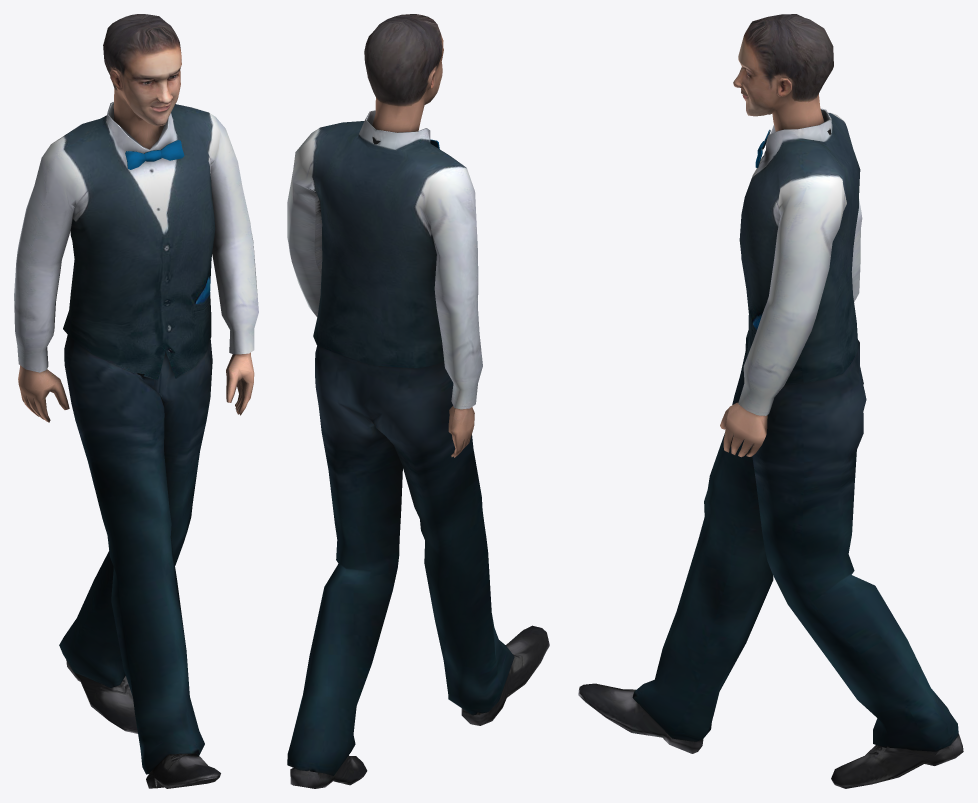
The model's file is SWT01_02_03.fbx.
3 renders of one model, left to right at view 1: azimuth 30°, elevation 25°; view 2: azimuth 150°, elevation 25°; view 3: azimuth 270°, elevation 25°, orthographic.
Parts seen in each view (by area): view 1: WAIT01_02_03; view 2: WAIT01_02_03; view 3: WAIT01_02_03.
Part boxes in pixels (x1=…): WAIT01_02_03: x1=14, y1=14, x2=258, y2=788; WAIT01_02_03: x1=287, y1=14, x2=549, y2=788; WAIT01_02_03: x1=578, y1=14, x2=963, y2=788.
Bounding box in the file's own units: 20.65 × 69.08 × 32.14.
